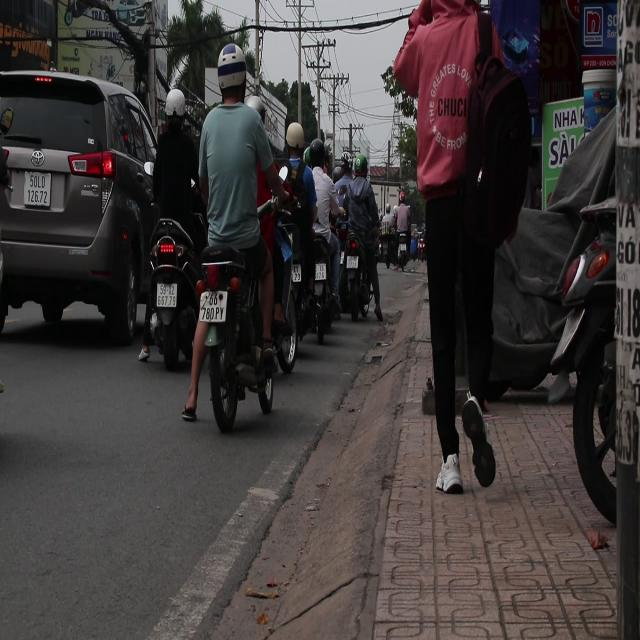car: (0, 70, 158, 348)
motorbike: (182, 234, 279, 430), (144, 217, 204, 373)
